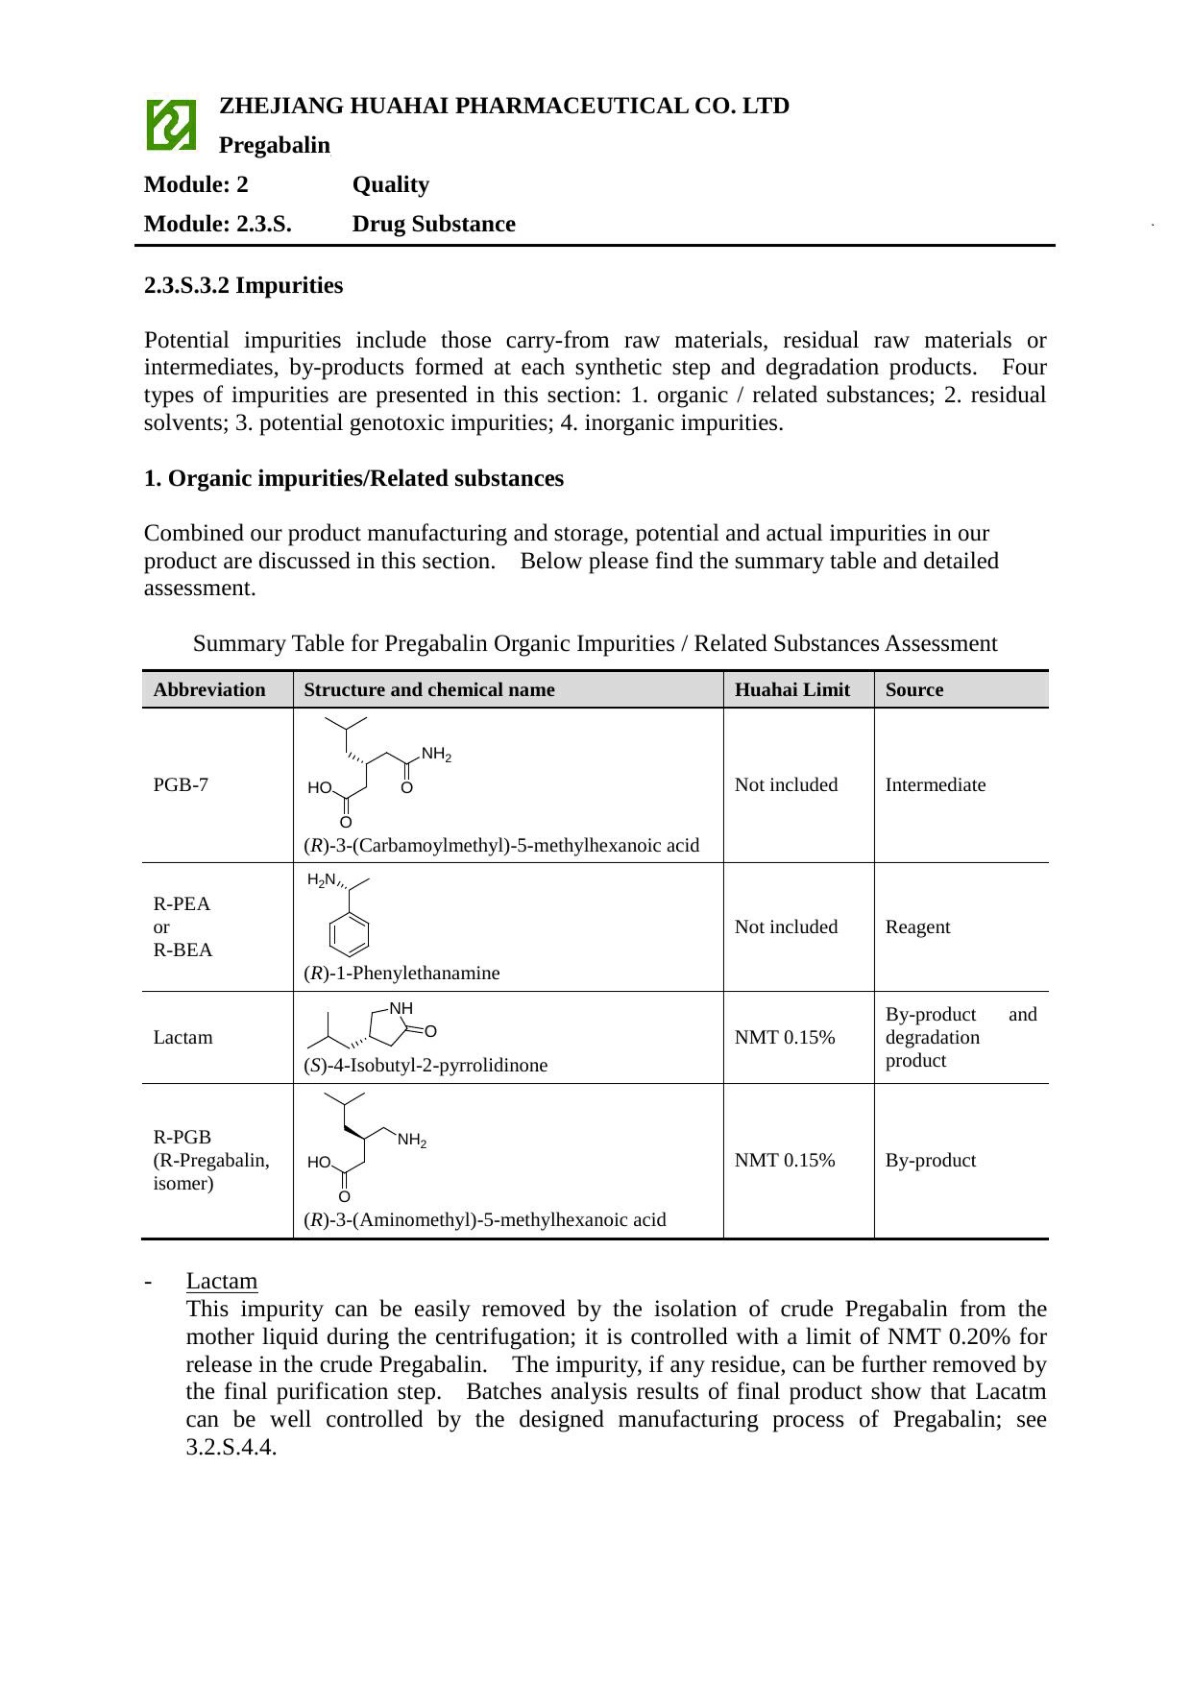partial_lined: (141, 668, 1050, 1243)
